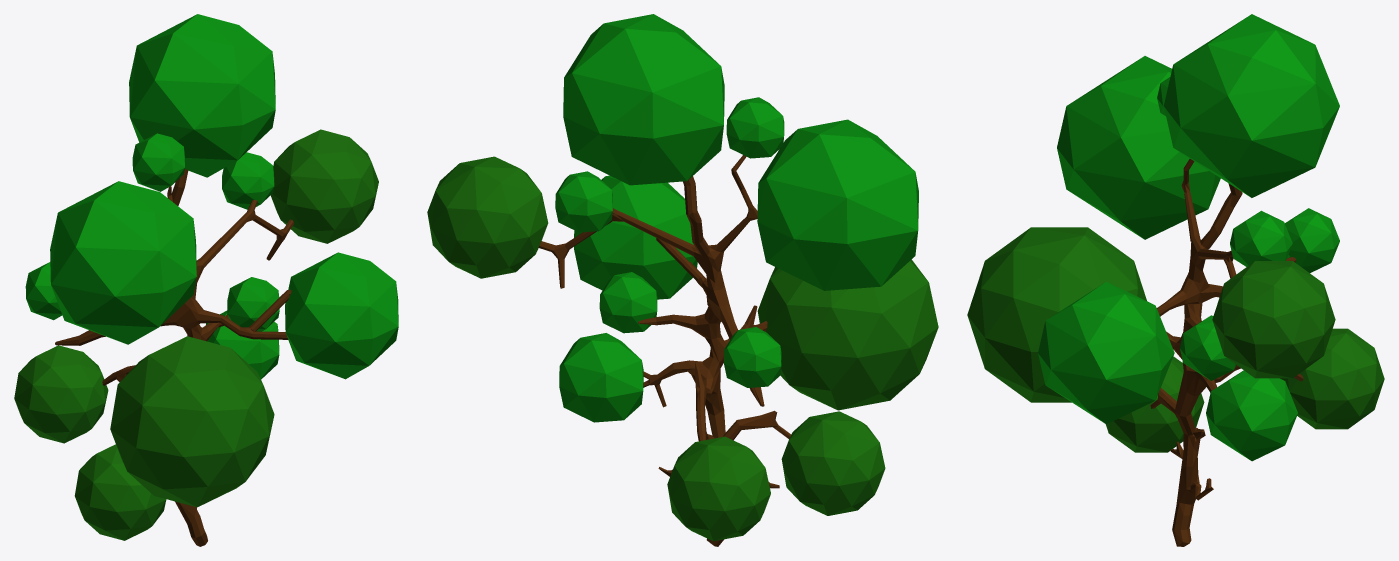
File: tree01.fbx
The picture shows the model from 3 angles, left to right: view 1: azimuth 30°, elevation 25°; view 2: azimuth 150°, elevation 25°; view 3: azimuth 270°, elevation 25°; orthographic projection. The views are drawn at different scales.
Visible parts, largest first — view 1: Icosphere.004, Icosphere.002, Icosphere.001, Icosphere.011, Icosphere, Icosphere.008, Cube.001, Icosphere.009, Icosphere.003, Icosphere.010, Icosphere.005, Icosphere.007 (+1 smaller); view 2: Icosphere.001, Icosphere.002, Icosphere.004, Cube.001, Icosphere, Icosphere.011, Icosphere.008, Icosphere.009, Icosphere.007, Icosphere.003, Icosphere.010, Icosphere.006 (+1 smaller); view 3: Icosphere.001, Icosphere.002, Icosphere.004, Icosphere.011, Icosphere, Cube.001, Icosphere.008, Icosphere.007, Icosphere.009, Icosphere.010, Icosphere.006, Icosphere.005.
Boxes of the visible parts, left/top/right/bottom form: Icosphere.004: left=110, top=336, right=274, bottom=507; Icosphere.002: left=50, top=181, right=196, bottom=344; Icosphere.001: left=129, top=14, right=275, bottom=177; Icosphere.011: left=285, top=252, right=398, bottom=379; Icosphere: left=270, top=129, right=378, bottom=243; Icosphere.008: left=14, top=345, right=108, bottom=443; Cube.001: left=55, top=169, right=293, bottom=546; Icosphere.009: left=74, top=444, right=166, bottom=540; Icosphere.003: left=132, top=133, right=184, bottom=191; Icosphere.010: left=222, top=152, right=274, bottom=209; Icosphere.005: left=227, top=277, right=279, bottom=331; Icosphere.007: left=206, top=310, right=279, bottom=379; Icosphere.001: left=563, top=14, right=724, bottom=185; Icosphere.002: left=757, top=119, right=918, bottom=290; Icosphere.004: left=757, top=259, right=938, bottom=410; Cube.001: left=538, top=155, right=791, bottom=546; Icosphere: left=427, top=156, right=548, bottom=278; Icosphere.011: left=574, top=175, right=697, bottom=299; Icosphere.008: left=667, top=436, right=770, bottom=541; Icosphere.009: left=781, top=411, right=885, bottom=515; Icosphere.007: left=559, top=333, right=643, bottom=422; Icosphere.003: left=726, top=97, right=784, bottom=158; Icosphere.010: left=555, top=171, right=612, bottom=232; Icosphere.006: left=724, top=327, right=781, bottom=387; Icosphere.001: left=1164, top=14, right=1339, bottom=197; Icosphere.002: left=1057, top=56, right=1220, bottom=239; Icosphere.004: left=967, top=227, right=1146, bottom=402; Icosphere.011: left=1038, top=281, right=1174, bottom=424; Icosphere: left=1212, top=261, right=1335, bottom=378; Cube.001: left=1150, top=159, right=1303, bottom=546; Icosphere.008: left=1280, top=328, right=1384, bottom=429; Icosphere.007: left=1206, top=370, right=1297, bottom=461; Icosphere.009: left=1105, top=356, right=1204, bottom=452; Icosphere.010: left=1230, top=210, right=1292, bottom=266; Icosphere.006: left=1285, top=208, right=1339, bottom=272; Icosphere.005: left=1180, top=315, right=1235, bottom=380.
Bounding box in the file's own units: 1920 × 2379 × 1672.
